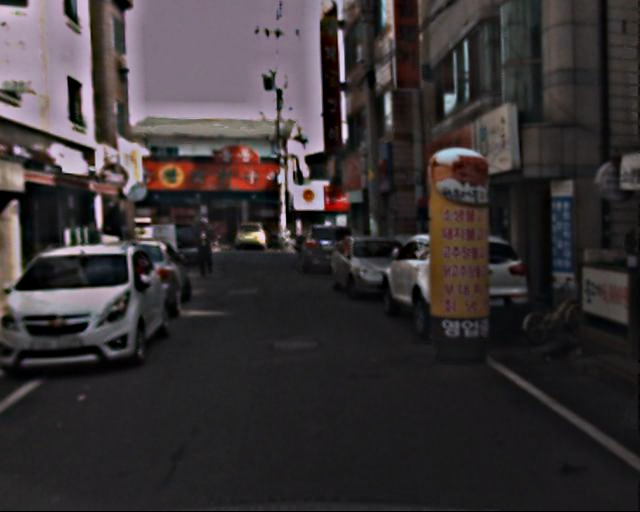person: (194, 222, 220, 279)
